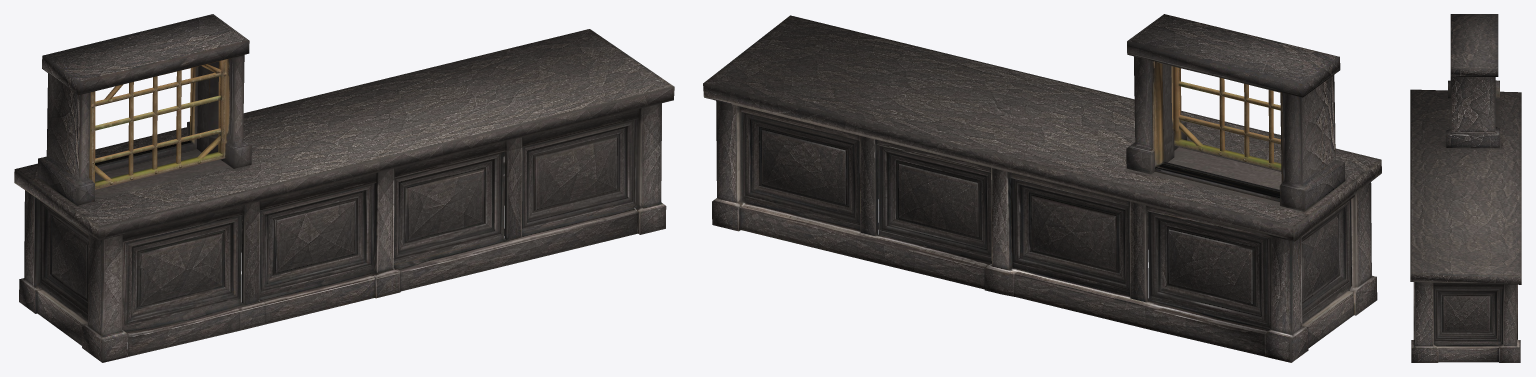
The model's file is post_office_counter.glb.
3 views of the same model, side by side, from view 1: azimuth 30°, elevation 25°; view 2: azimuth 150°, elevation 25°; view 3: azimuth 270°, elevation 25° (orthographic). The views are drawn at different scales.
Parts seen in each view (by area): view 1: tripo_node_3b87f5bb-8081-4e3f-81c0-106e7b5effe5; view 2: tripo_node_3b87f5bb-8081-4e3f-81c0-106e7b5effe5; view 3: tripo_node_3b87f5bb-8081-4e3f-81c0-106e7b5effe5.
Boxes of the visible parts, bbox=[...] form: tripo_node_3b87f5bb-8081-4e3f-81c0-106e7b5effe5: bbox=[14, 14, 674, 362]; tripo_node_3b87f5bb-8081-4e3f-81c0-106e7b5effe5: bbox=[703, 14, 1381, 362]; tripo_node_3b87f5bb-8081-4e3f-81c0-106e7b5effe5: bbox=[1410, 14, 1521, 362].
Size of the model in its own units: 0.9995 by 0.4321 by 0.2554.
1 material, 1 textured.
